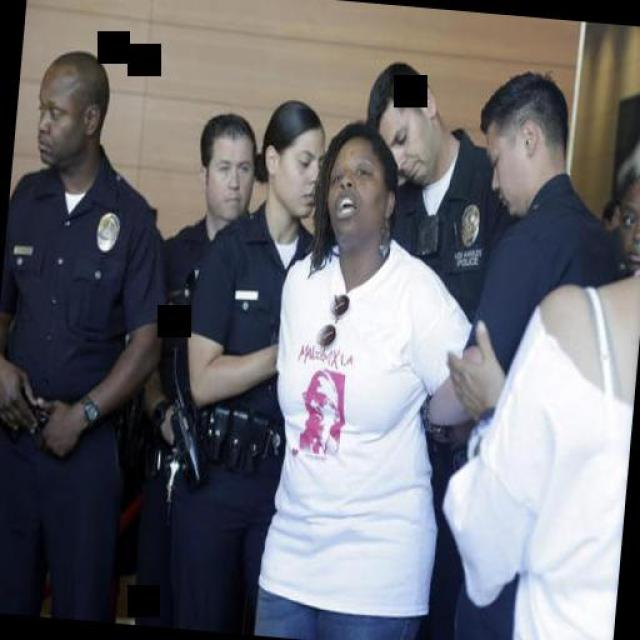gun: (164, 395, 220, 490)
